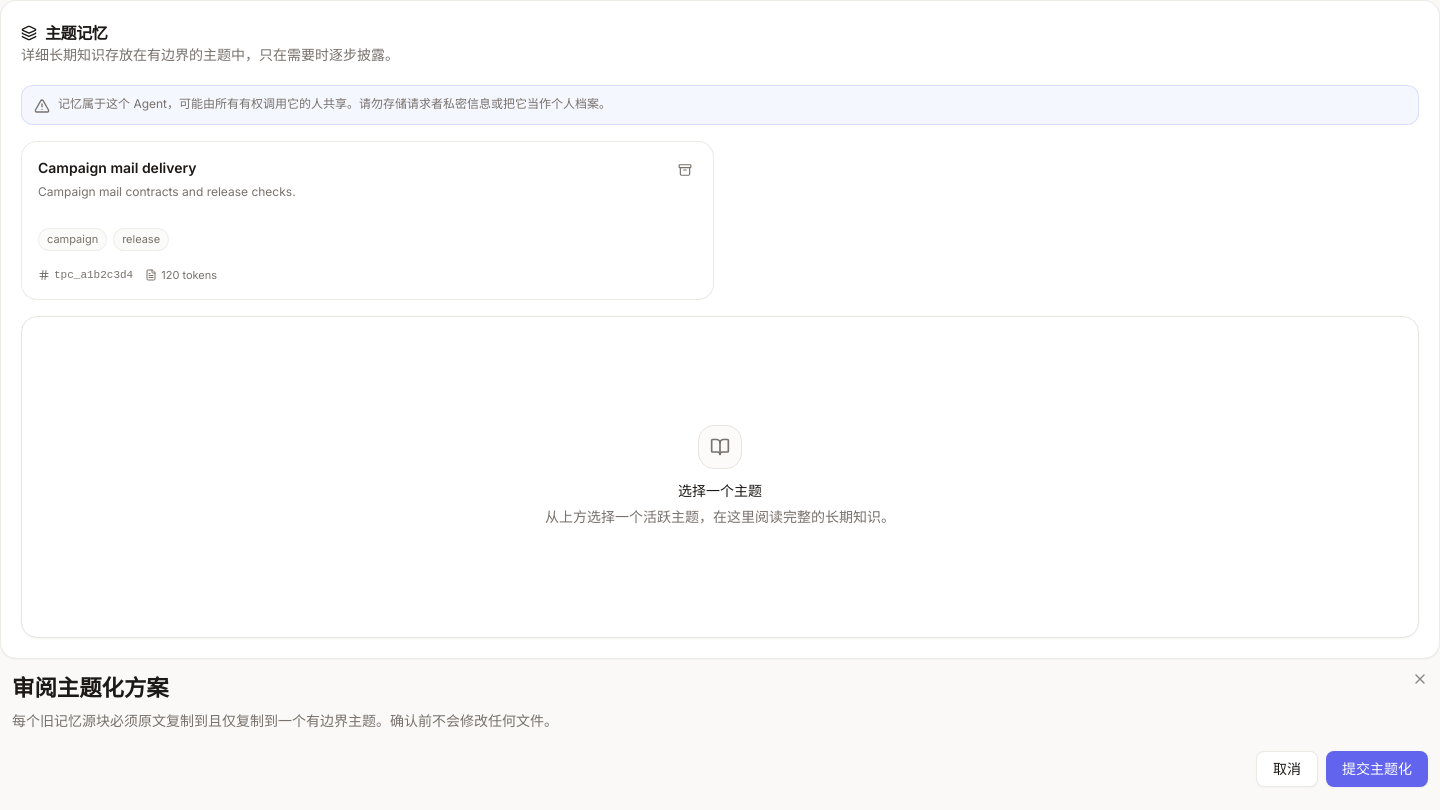
Scenario: MemoryTab defaults › discloses one selected topic after rendering metadata only
The width and height of the screenshot is (1440, 810).
Expected: the text "Campaign mail contracts and release checks." is shown, [38,184,296,199]
Expected: the text "Validate item_id serialization" is not shown
Click the button "Campaign mail delivery". click: (117, 168)
box: [22,142,713,299]
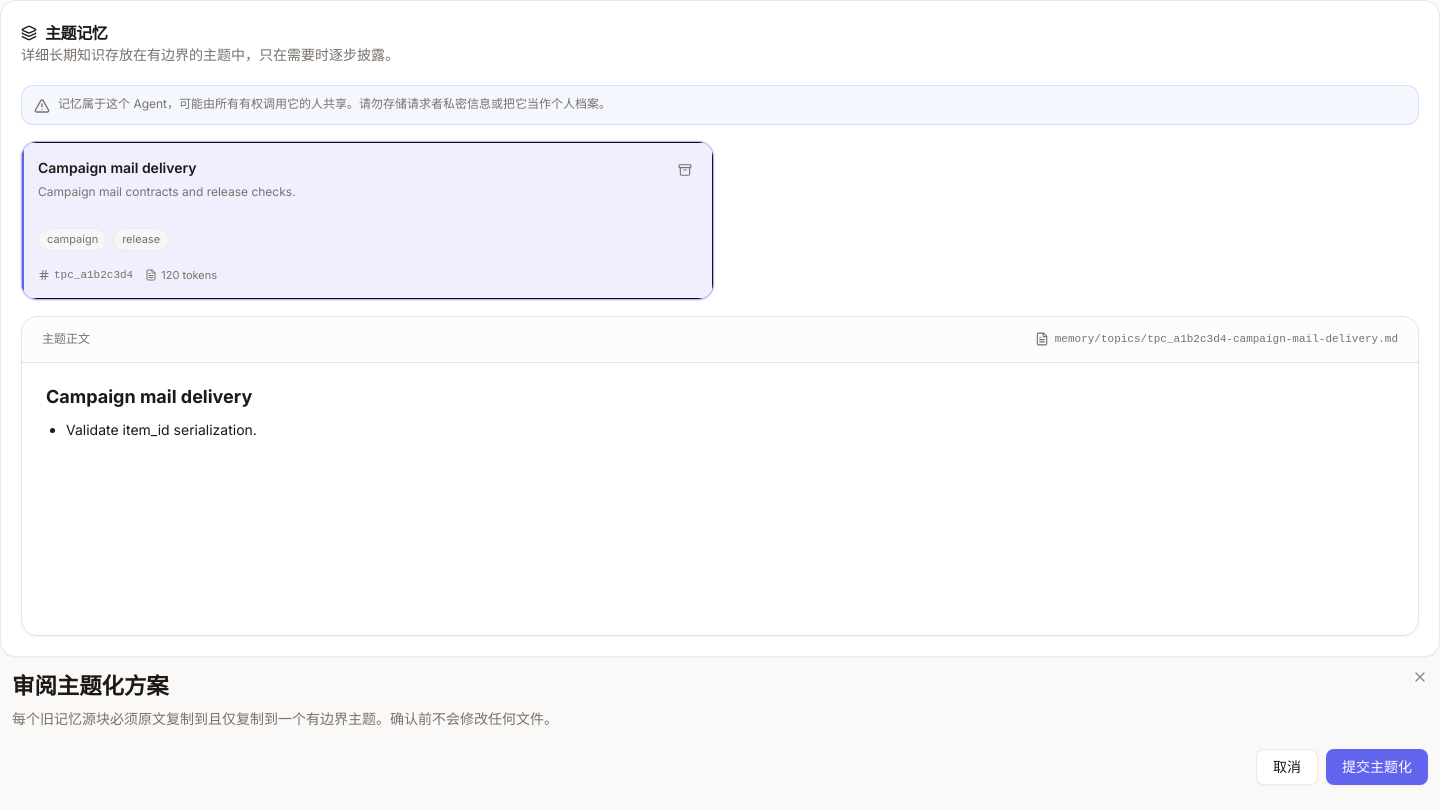
Expected: the element "主题正文" is shown, [21,316,1419,636]
Expected: the heading "Campaign mail delivery" is shown, [46,386,252,406]
Expected: the list item "Validate item_id serialization." is shown, [66,420,257,438]
